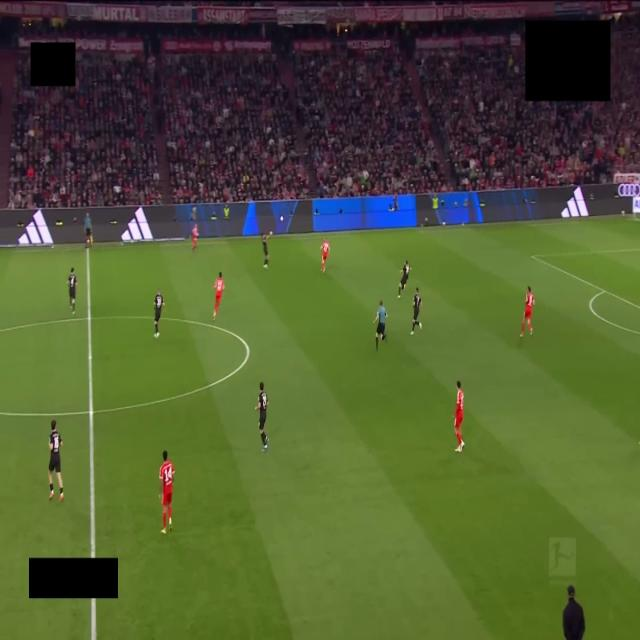ball: (280, 216, 283, 221)
player: (159, 450, 174, 534), (49, 420, 63, 501), (255, 382, 268, 452), (520, 287, 534, 338), (454, 381, 464, 452), (154, 289, 165, 338), (213, 272, 224, 320), (411, 288, 422, 335), (398, 261, 410, 297), (68, 268, 77, 314), (262, 232, 272, 268), (322, 239, 329, 272), (192, 224, 198, 251)
referee: (374, 301, 386, 350)
